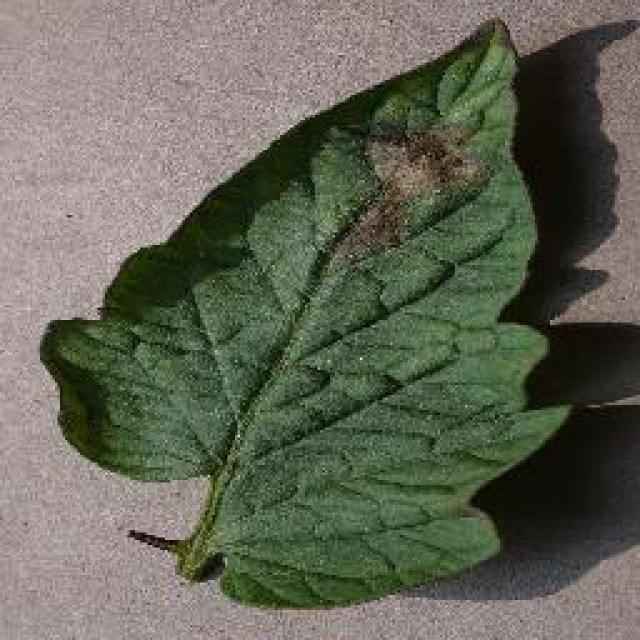Tomato late blight leaf: (50, 39, 565, 606)
